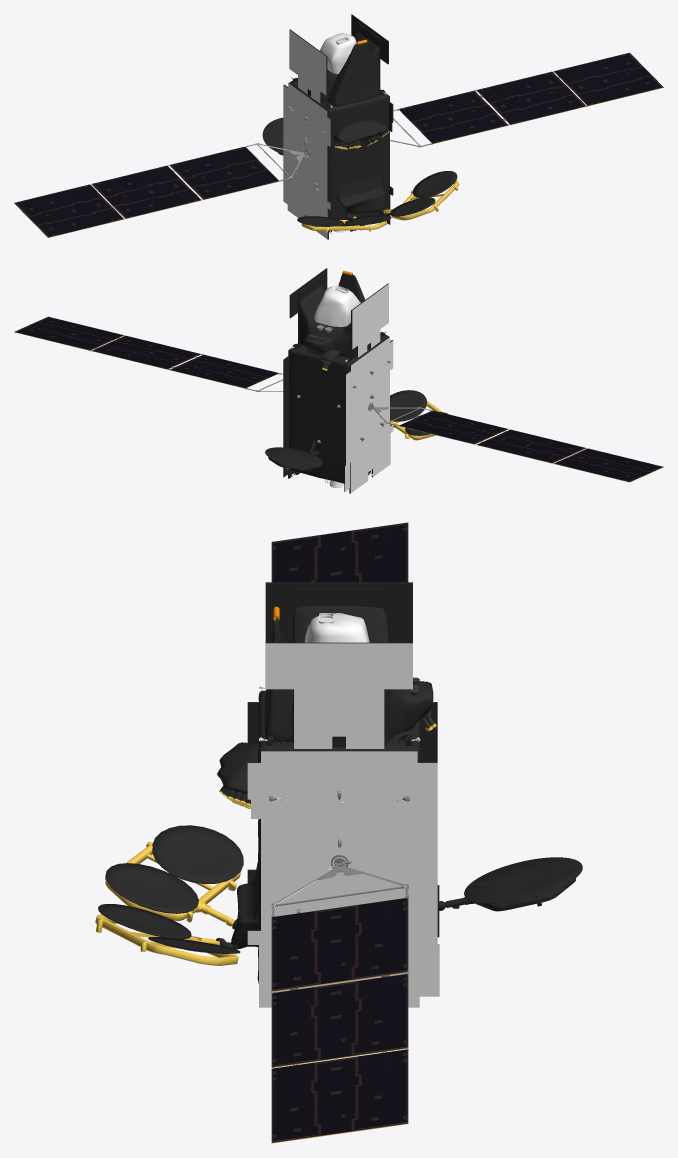
Rendered from tempo.glb.
The picture shows the model from 3 angles, top to bottom: view 1: azimuth 30°, elevation 25°; view 2: azimuth 150°, elevation 25°; view 3: azimuth 270°, elevation 25°; orthographic projection. The views are drawn at different scales.
Parts seen in each view (by area): view 1: Extrude_1_3.003, Cube.008, krinkleBUS, krinkleBUS.002, Cylinder.039, krinkleBUS.005, krinkleBUS.003, krinkleBUS.004, krinkleBUS.001, Dish_5.001, Dish_Support_1.001, Dish_Support_2.001; view 2: Extrude_1_3.003, Cube.008, krinkleBUS, krinkleBUS.001, krinkleBUS.003, Cylinder.039, Dish_5.001, krinkleBUS.002; view 3: Cube.008, Extrude_1_3.003, Cylinder.039, krinkleBUS.001, Dish_5.001, krinkleBUS, krinkleBUS.002, Dish_Support_1.001, krinkleBUS.003, krinkleBUS.004, krinkleBUS.005, Dish_Support_2.001 (+1 smaller).
Part boxes in pixels (x1,y1,x2,y2): Extrude_1_3.003: (14, 52, 663, 237); Cube.008: (283, 14, 393, 239); krinkleBUS: (290, 81, 389, 230); krinkleBUS.002: (327, 42, 380, 106); Cylinder.039: (297, 171, 457, 226); krinkleBUS.005: (337, 174, 384, 213); krinkleBUS.003: (319, 33, 356, 73); krinkleBUS.004: (333, 120, 387, 144); krinkleBUS.001: (308, 32, 379, 103); Dish_5.001: (262, 117, 283, 153); Dish_Support_1.001: (385, 180, 459, 220); Dish_Support_2.001: (301, 216, 387, 230); Extrude_1_3.003: (14, 316, 663, 482); Cube.008: (283, 268, 393, 493); krinkleBUS: (289, 335, 388, 483); krinkleBUS.001: (299, 286, 370, 357); krinkleBUS.003: (314, 285, 360, 326); Cylinder.039: (390, 390, 448, 435); Dish_5.001: (265, 447, 322, 467); krinkleBUS.002: (338, 273, 365, 302); Cube.008: (247, 582, 439, 1007); Extrude_1_3.003: (271, 522, 408, 1143); Cylinder.039: (98, 825, 243, 953); krinkleBUS.001: (292, 606, 433, 747); Dish_5.001: (464, 857, 582, 903); krinkleBUS: (257, 691, 420, 983); krinkleBUS.002: (264, 618, 293, 741); Dish_Support_1.001: (95, 914, 238, 965); krinkleBUS.003: (305, 613, 369, 642); krinkleBUS.004: (218, 742, 258, 794); krinkleBUS.005: (231, 862, 258, 948); Dish_Support_2.001: (105, 843, 241, 922).
Size of the model in its own units: 19.5 by 6.04 by 6.69.
18 materials, 1 textured.
